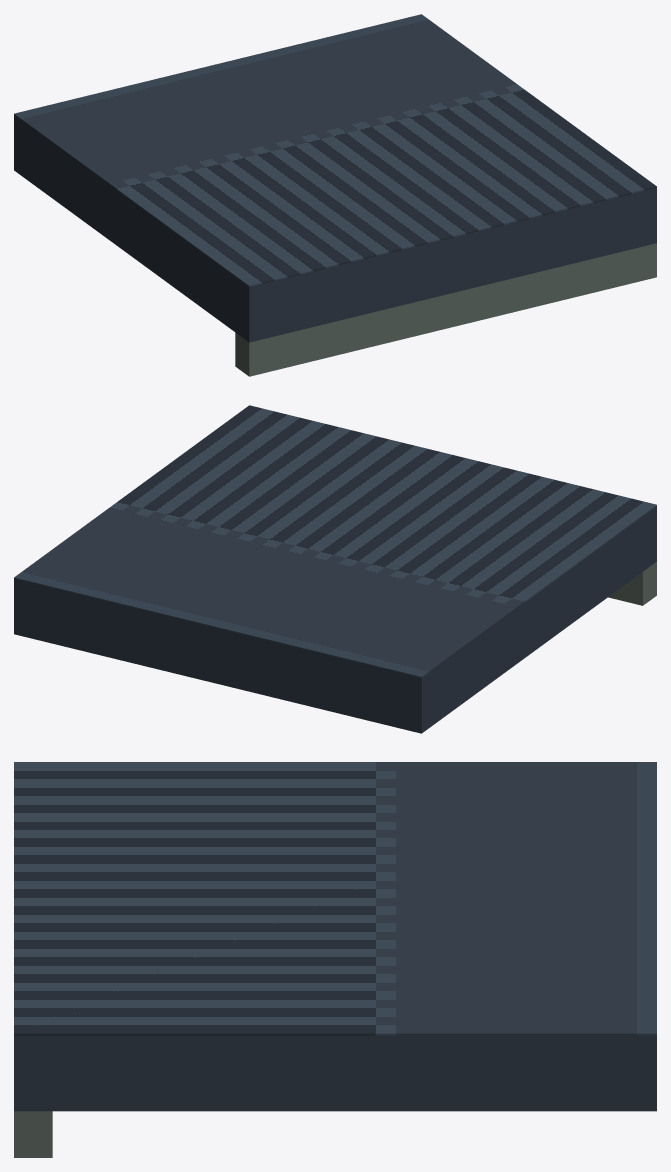
File: CMU3DInteriorVehicleBoxVanRoof5.glb
The picture shows the model from 3 angles, top to bottom: view 1: azimuth 30°, elevation 25°; view 2: azimuth 150°, elevation 25°; view 3: azimuth 270°, elevation 25°; orthographic projection. The views are drawn at different scales.
Visible parts, largest first — view 1: overhead armor source finish, overhead armor, inner roof rib; view 2: overhead armor source finish, overhead armor, inner roof rib; view 3: overhead armor source finish, overhead armor, inner roof rib.
Part boxes in pixels (bbox=[...]): overhead armor source finish: bbox=[14, 14, 656, 286]; overhead armor: bbox=[14, 115, 656, 342]; inner roof rib: bbox=[235, 243, 656, 376]; overhead armor source finish: bbox=[14, 405, 656, 677]; overhead armor: bbox=[14, 506, 656, 733]; inner roof rib: bbox=[608, 561, 656, 605]; overhead armor source finish: bbox=[14, 762, 656, 1035]; overhead armor: bbox=[14, 1035, 656, 1111]; inner roof rib: bbox=[14, 1111, 52, 1157].
Size of the model in its own units: 1 by 0.213 by 1.
Materials: 3 (1 with a texture image).
